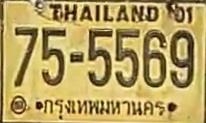5: (114, 28, 139, 87), (41, 27, 66, 85), (87, 28, 112, 86)
6: (142, 29, 166, 87)
7: (14, 26, 38, 86)
9: (170, 29, 194, 87)
BKK: (41, 93, 168, 123)
